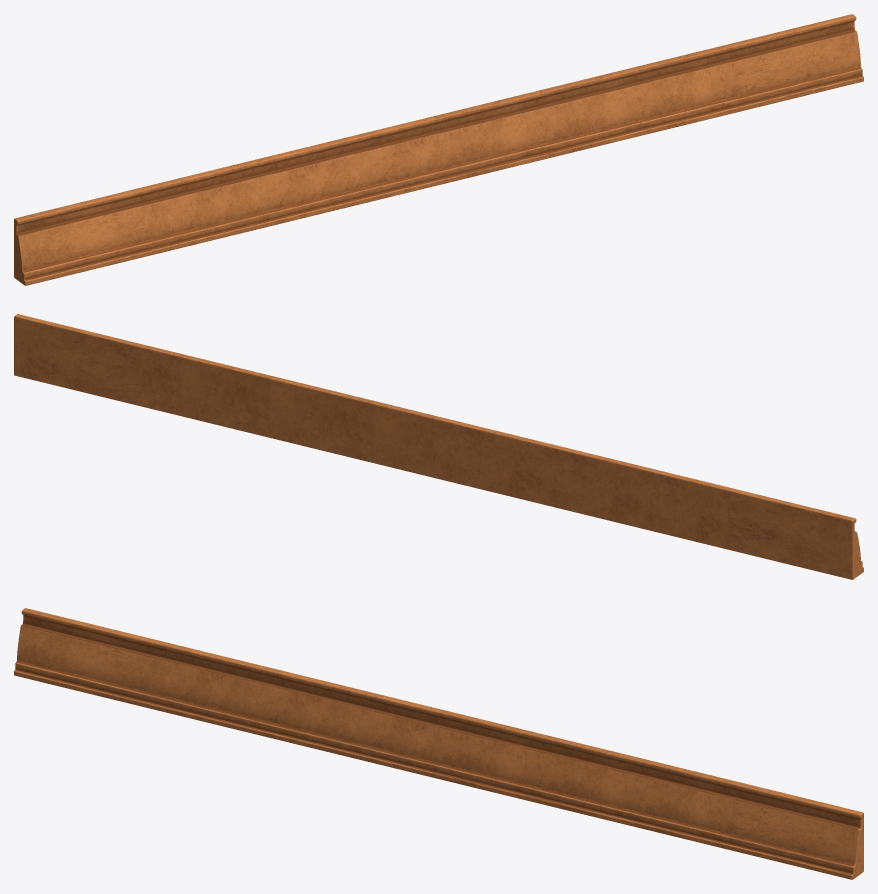
Rendered from skirtingboard.glb.
3 renders of one model, top to bottom at view 1: azimuth 30°, elevation 25°; view 2: azimuth 150°, elevation 25°; view 3: azimuth 330°, elevation 25°, orthographic.
Parts seen in each view (by area): view 1: pCube1; view 2: pCube1; view 3: pCube1.
Part boxes in pixels (x1,y1,x2,y2): pCube1: (14, 14, 863, 285); pCube1: (14, 314, 863, 579); pCube1: (14, 608, 863, 879).
Bounding box in the file's own units: 200 × 13.53 × 4.79.
1 material, 1 textured.
